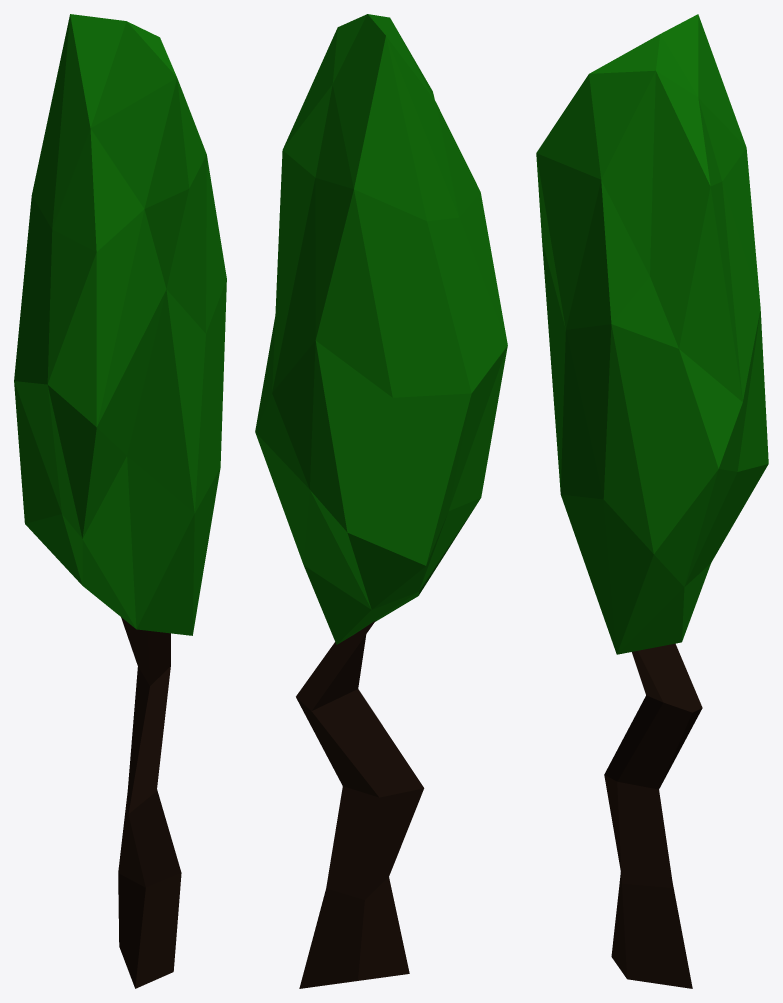
Rendered from tree 2.1.FBX.
3 views of the same model, side by side, from view 1: azimuth 30°, elevation 25°; view 2: azimuth 150°, elevation 25°; view 3: azimuth 270°, elevation 25° (orthographic). The views are drawn at different scales.
Parts seen in each view (by area): view 1: GeoSphere002, Box001; view 2: GeoSphere002, Box001; view 3: GeoSphere002, Box001.
Part boxes in pixels (box(x1,y1,x2,y2)): GeoSphere002: box(14, 14, 226, 635); Box001: box(118, 617, 181, 988); GeoSphere002: box(255, 14, 507, 644); Box001: box(296, 620, 424, 988); GeoSphere002: box(536, 14, 768, 654); Box001: box(604, 643, 702, 988).
Bounding box in the file's own units: 23.91 × 114 × 25.75.
